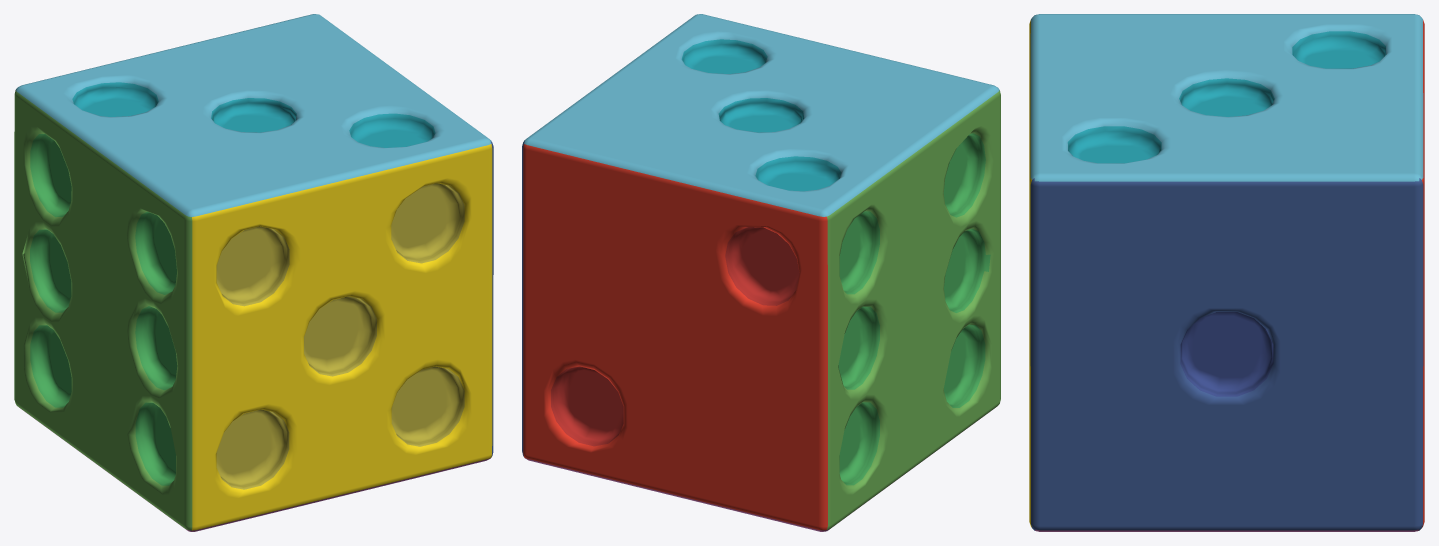
The model's file is Dice.fbx.
3 renders of one model, left to right at view 1: azimuth 30°, elevation 25°; view 2: azimuth 150°, elevation 25°; view 3: azimuth 270°, elevation 25°, orthographic. The views are drawn at different scales.
Visible parts, largest first — view 1: Dice; view 2: Dice; view 3: Dice.
Boxes of the visible parts, x1,y1,x2,y2 form: Dice: (14, 14, 493, 531); Dice: (522, 14, 1000, 531); Dice: (1029, 14, 1424, 531).
Bounding box in the file's own units: 0.8 × 0.8 × 0.8.
1 material, 1 textured.
